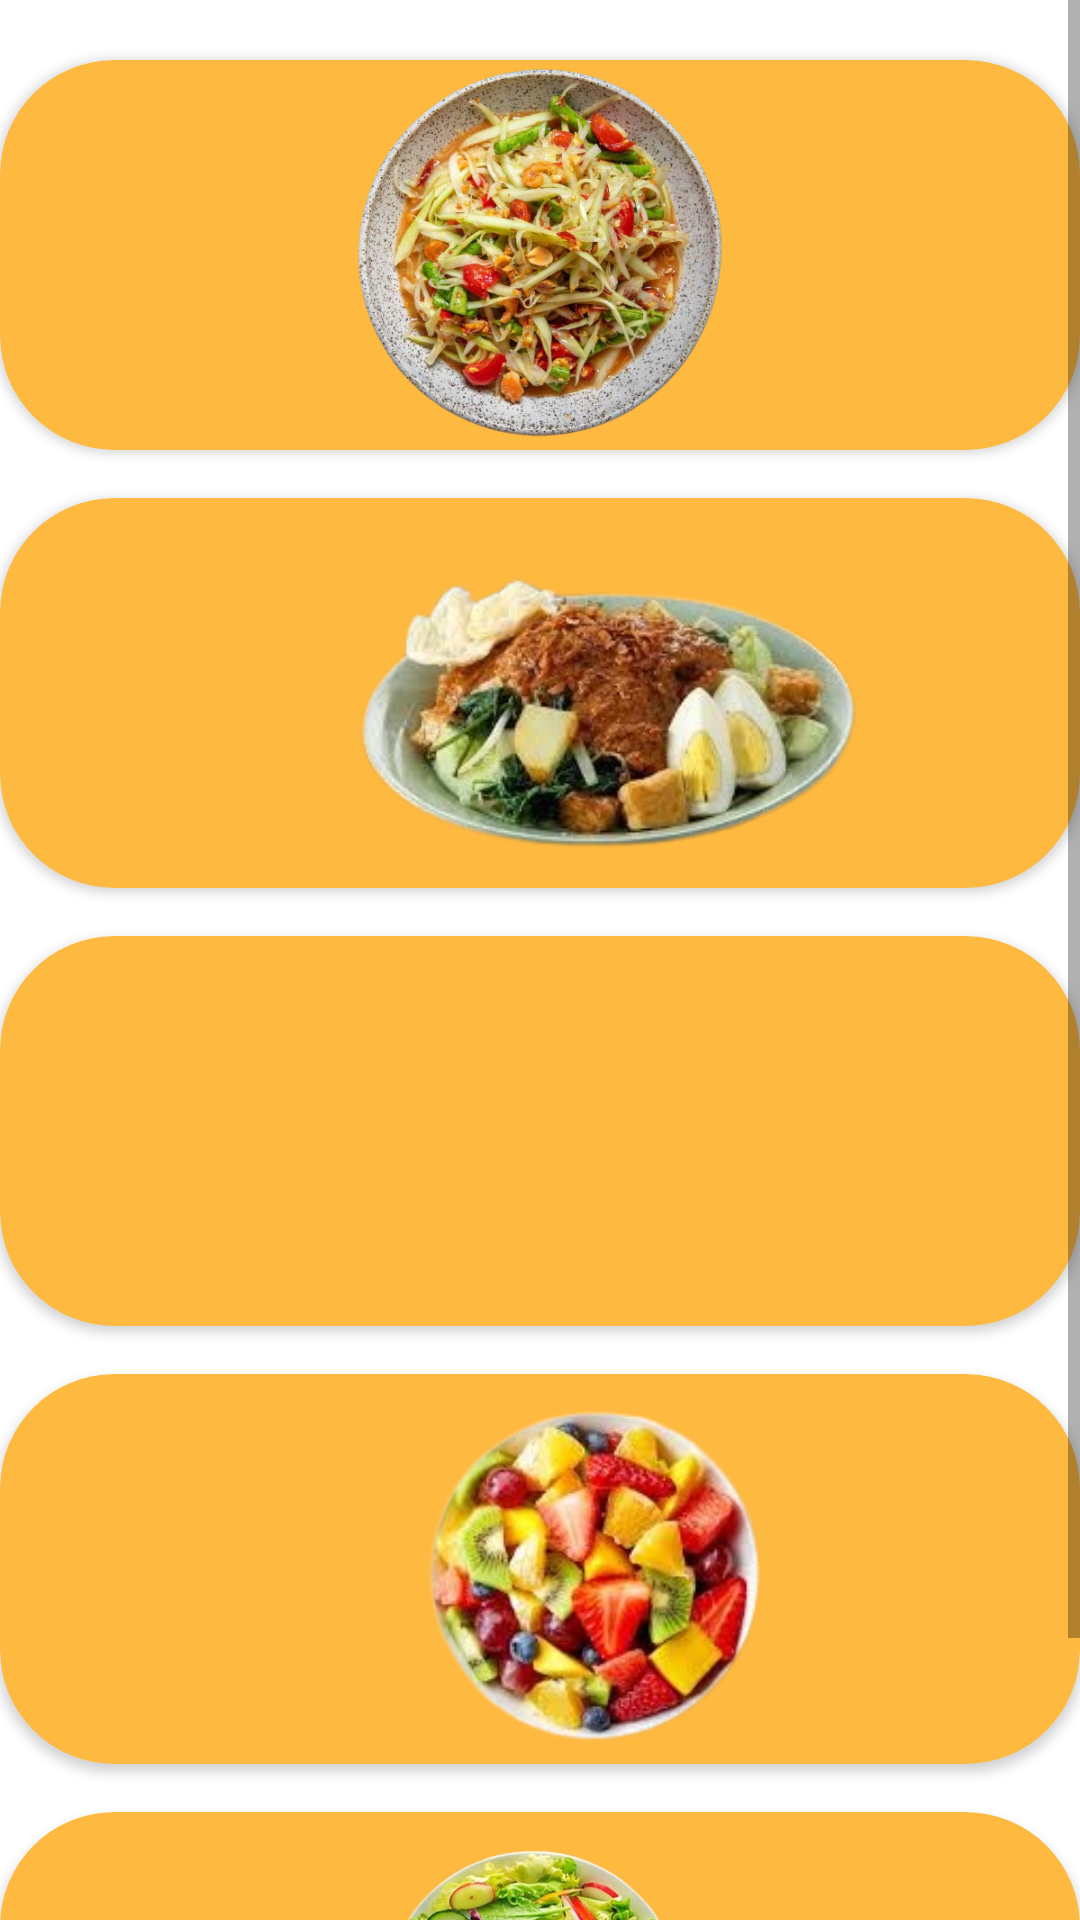

Icons on this 1080x1920 Android screen, each with the point to tap as point (x, y):
sldbuah: point (595, 1576)
